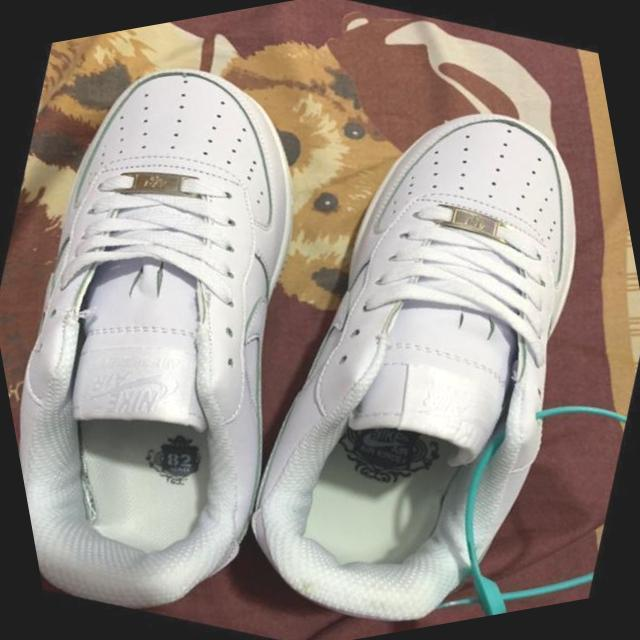nike_fake_airforce: (149, 33, 640, 640), (0, 2, 428, 640)
